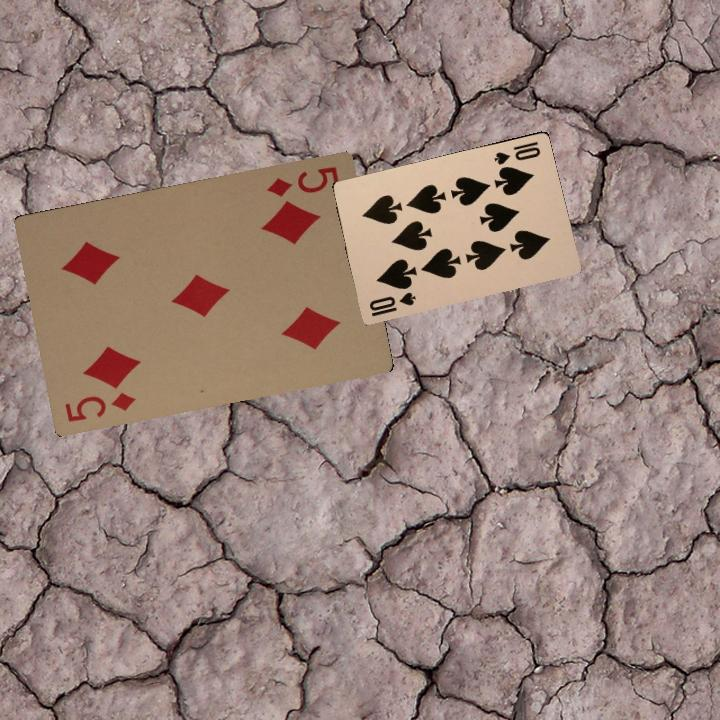10s: (365, 288, 418, 319), (490, 137, 543, 167)
5d: (263, 162, 342, 200), (60, 388, 139, 425)
